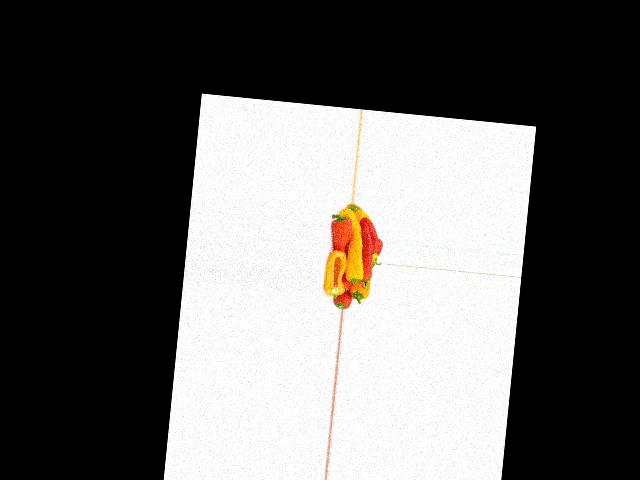bell_pepper: (333, 278, 357, 310)
